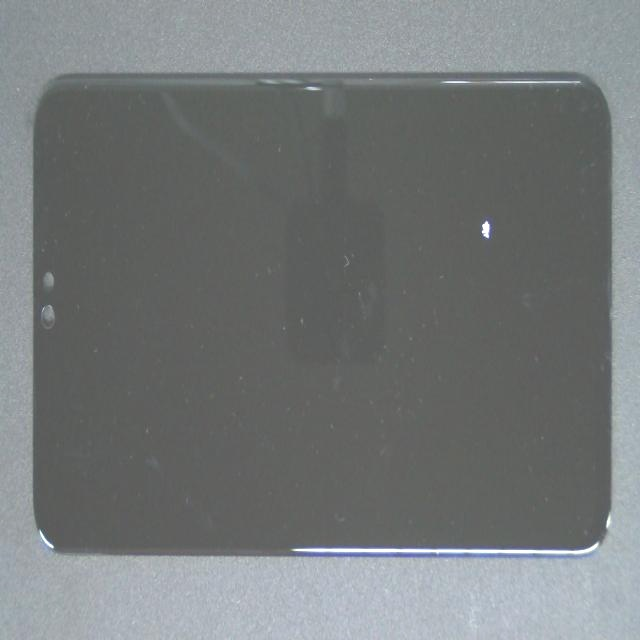stain: (247, 77, 640, 310)
